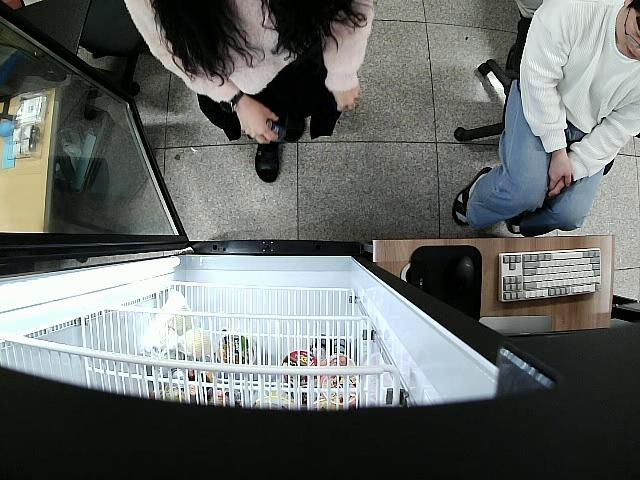16_hot6: (265, 118, 285, 139)
